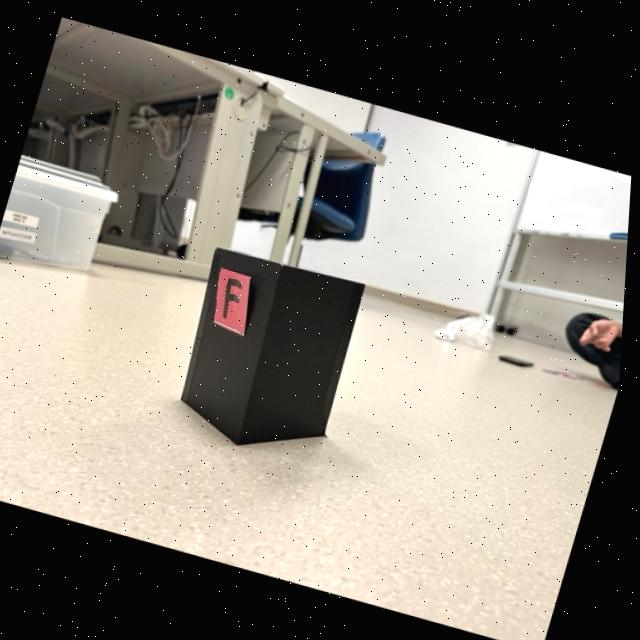F: (226, 276, 244, 315)
